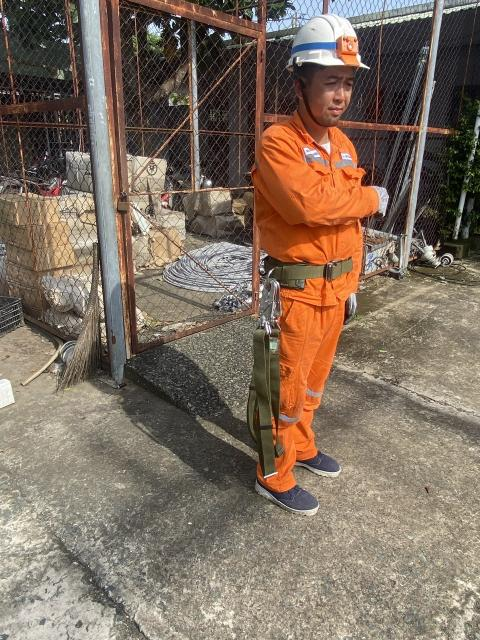gloves: (362, 181, 398, 219), (339, 278, 365, 329)
harness: (260, 248, 368, 293)
helmet: (280, 0, 389, 80)
shoes: (250, 463, 319, 517), (290, 440, 343, 479)
